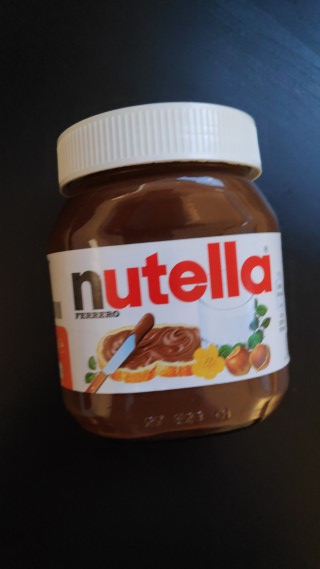nutella: (43, 99, 295, 445)
